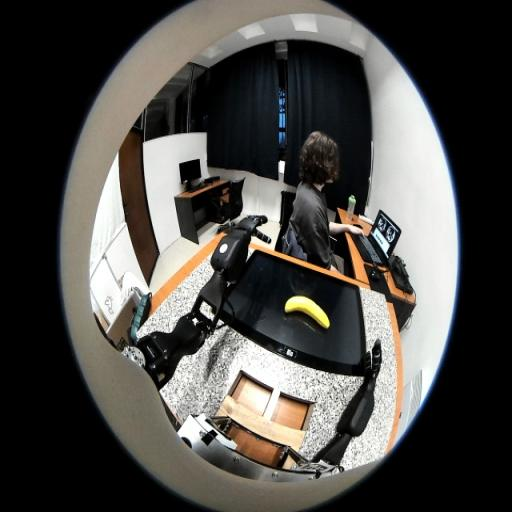Banana: (284, 295, 330, 329)
LeftHand: (239, 218, 258, 228)
RightHand: (364, 365, 380, 382)
